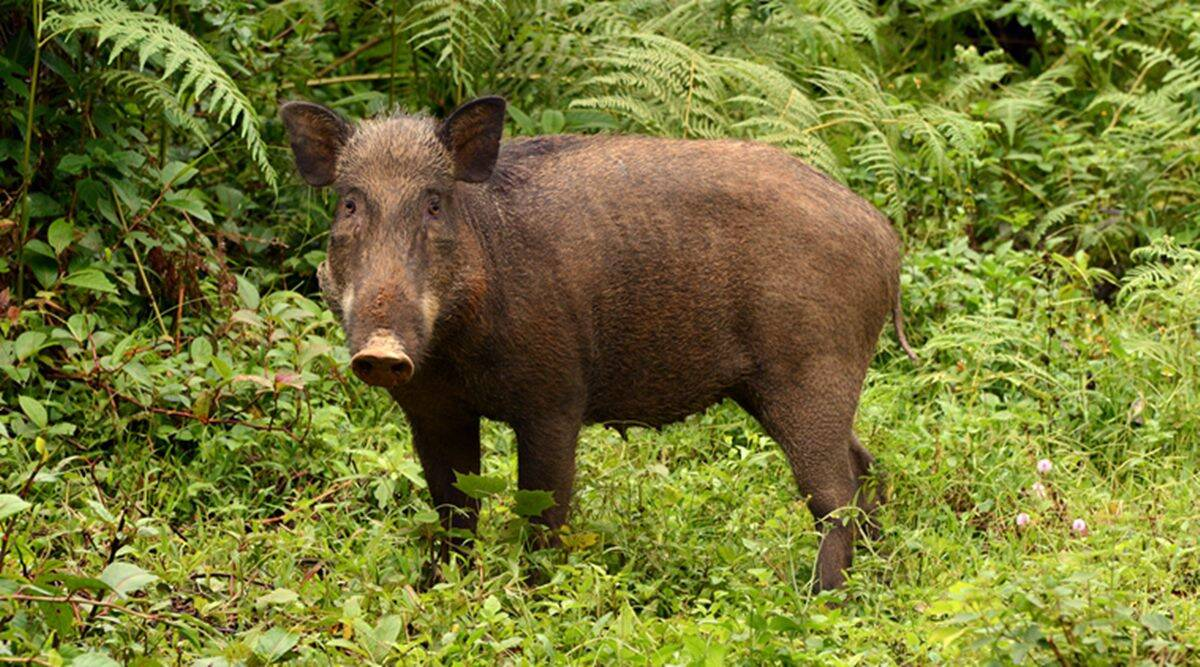wild boar: (250, 83, 926, 593)
